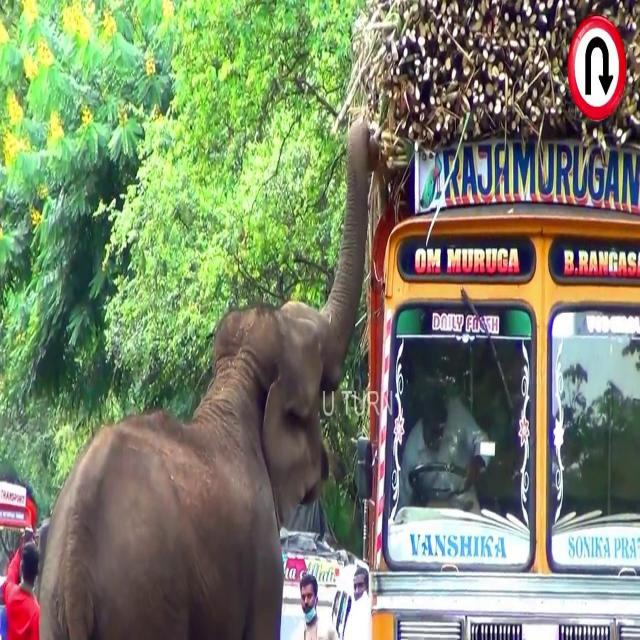Elephant: (37, 117, 379, 631)
